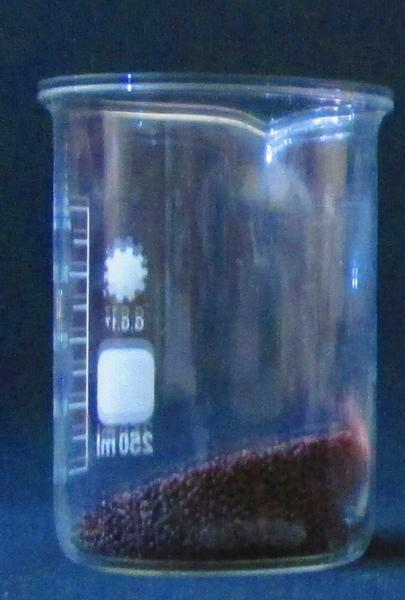Beaker: (33, 60, 395, 584)
